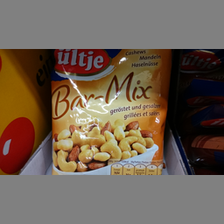nuts: (50, 49, 172, 176)
